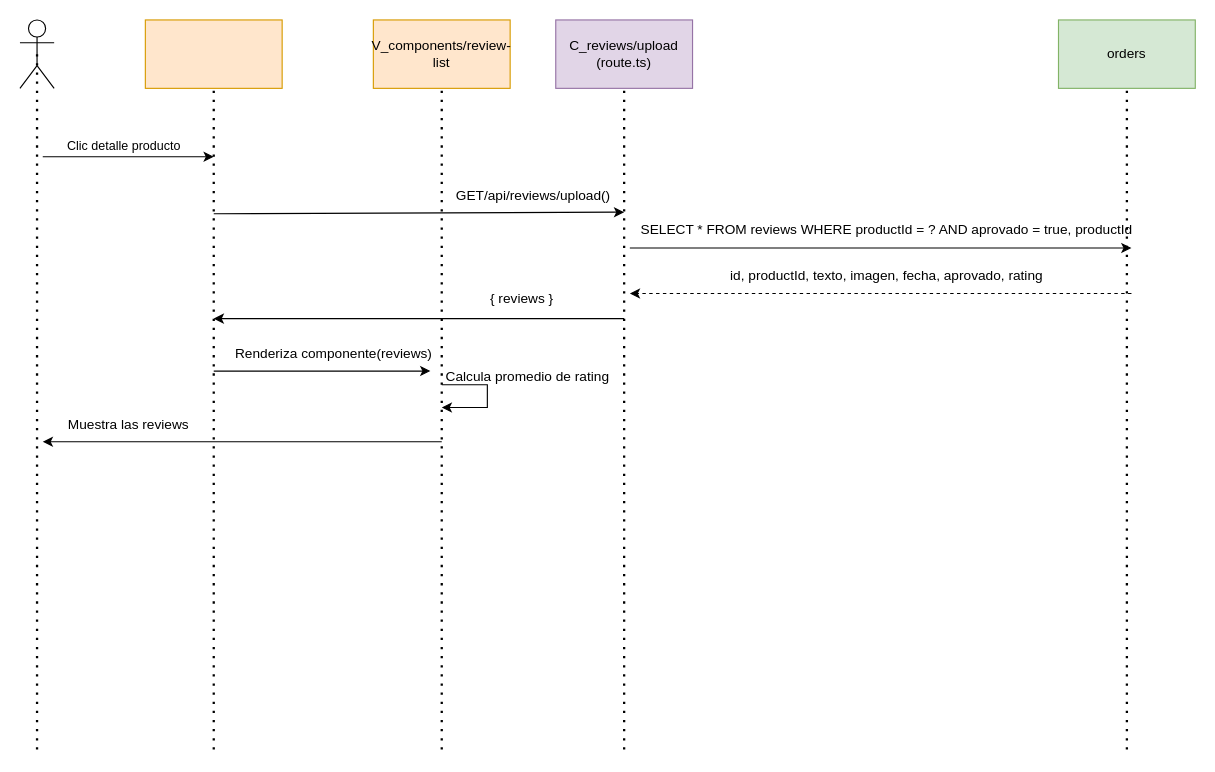
Image size: 1215x772. Some labels were removed from this diagram. The shapes that lost their labels are listed below. From the top down, each one's box as (x1, y1, x2, y2) in pixels, then its label:
(19, 19, 54, 88): Actor
(144, 19, 282, 88): V_producto/id
